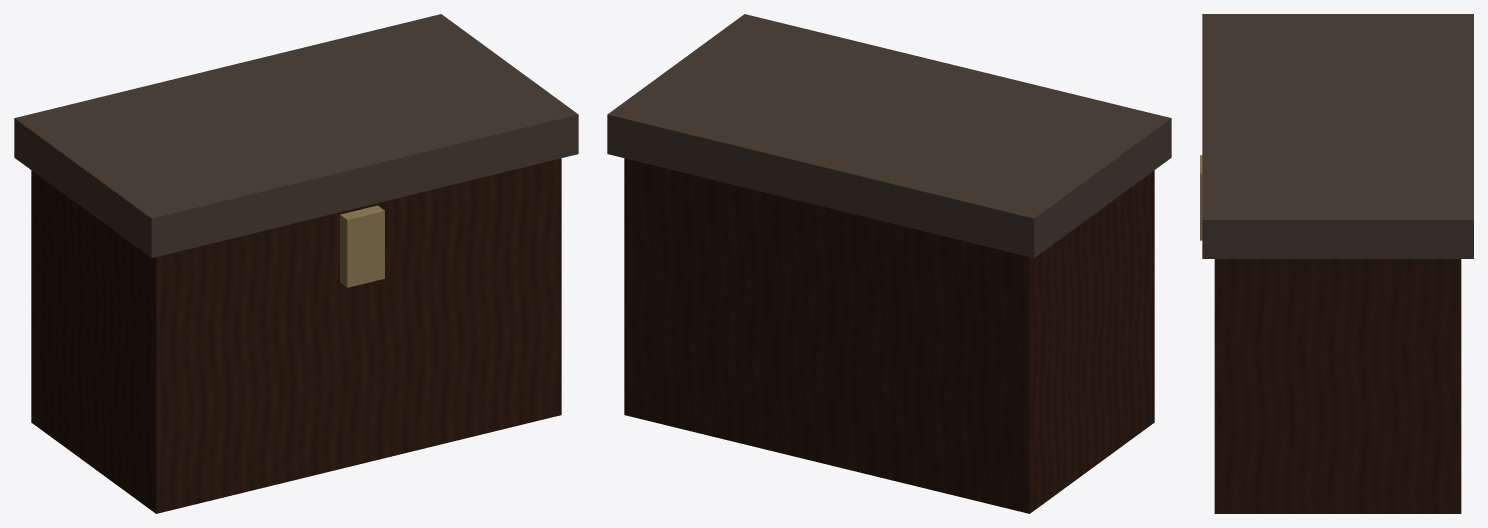
File: module_storage_chest.glb
3 renders of one model, left to right at view 1: azimuth 30°, elevation 25°; view 2: azimuth 150°, elevation 25°; view 3: azimuth 270°, elevation 25°, orthographic.
Visible parts, largest first — view 1: chest, chest_lid, latch; view 2: chest, chest_lid; view 3: chest_lid, chest.
Boxes of the visible parts, x1,y1,x2,y2 form: chest: (31, 158, 561, 513); chest_lid: (14, 14, 578, 257); latch: (340, 205, 384, 287); chest: (624, 158, 1154, 513); chest_lid: (607, 14, 1171, 257); chest_lid: (1202, 14, 1473, 258); chest: (1214, 259, 1461, 513).
Size of the model in its own units: 0.79 by 0.535 by 0.4435.
Materials: 3 (1 with a texture image).
